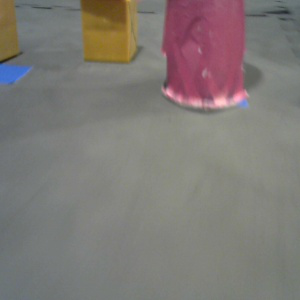Right: (160, 1, 248, 110)
